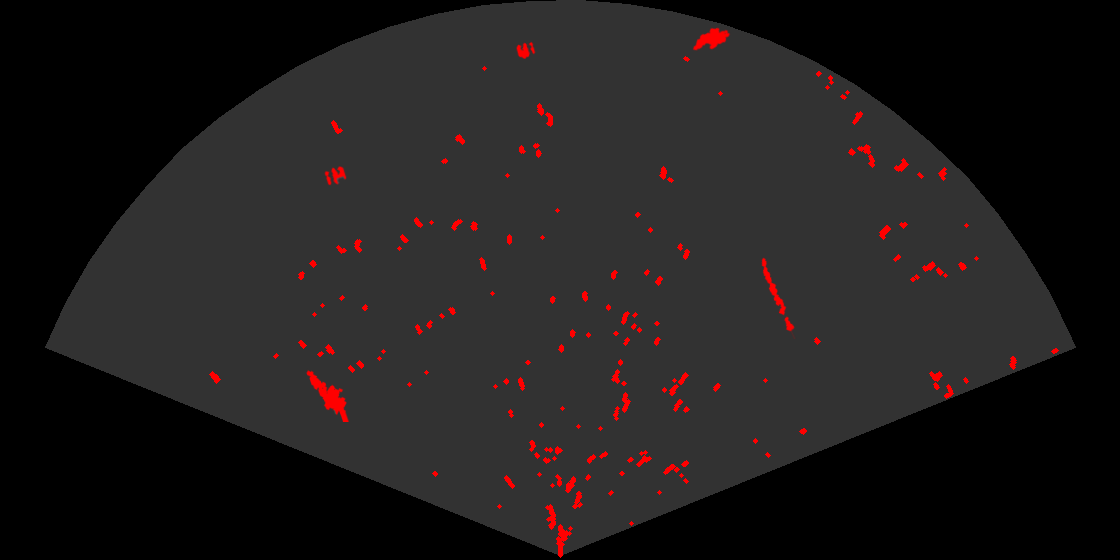AUV: (691, 26, 732, 52)
ball: (323, 165, 348, 187), (515, 40, 537, 60)
chain: (760, 256, 797, 339)
frogman: (305, 368, 351, 422)
